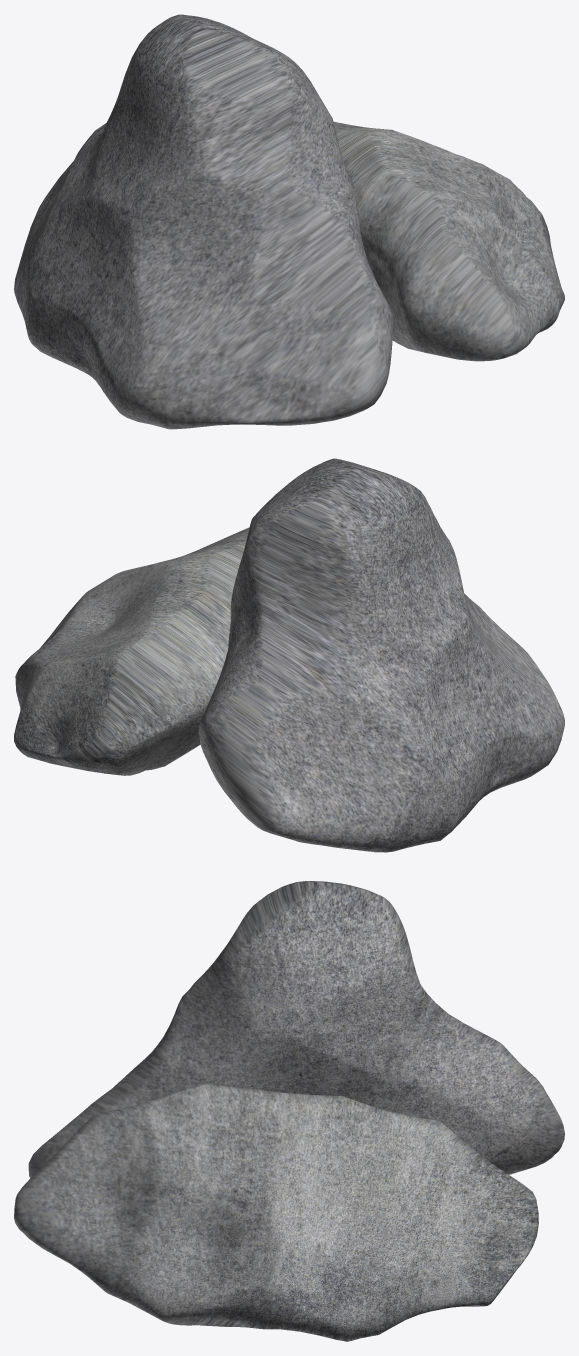
The model's file is pedra.1.obj.
The picture shows the model from 3 angles, top to bottom: view 1: azimuth 30°, elevation 25°; view 2: azimuth 150°, elevation 25°; view 3: azimuth 270°, elevation 25°; orthographic projection. The views are drawn at different scales.
Visible parts, largest first — view 1: Cube.002; view 2: Cube.002; view 3: Cube.002.
Boxes of the visible parts, x1,y1,x2,y2 form: Cube.002: (14,14,564,429); Cube.002: (14,458,564,852); Cube.002: (14,881,564,1341).
Bounding box in the file's own units: 5.02 × 3.37 × 5.
